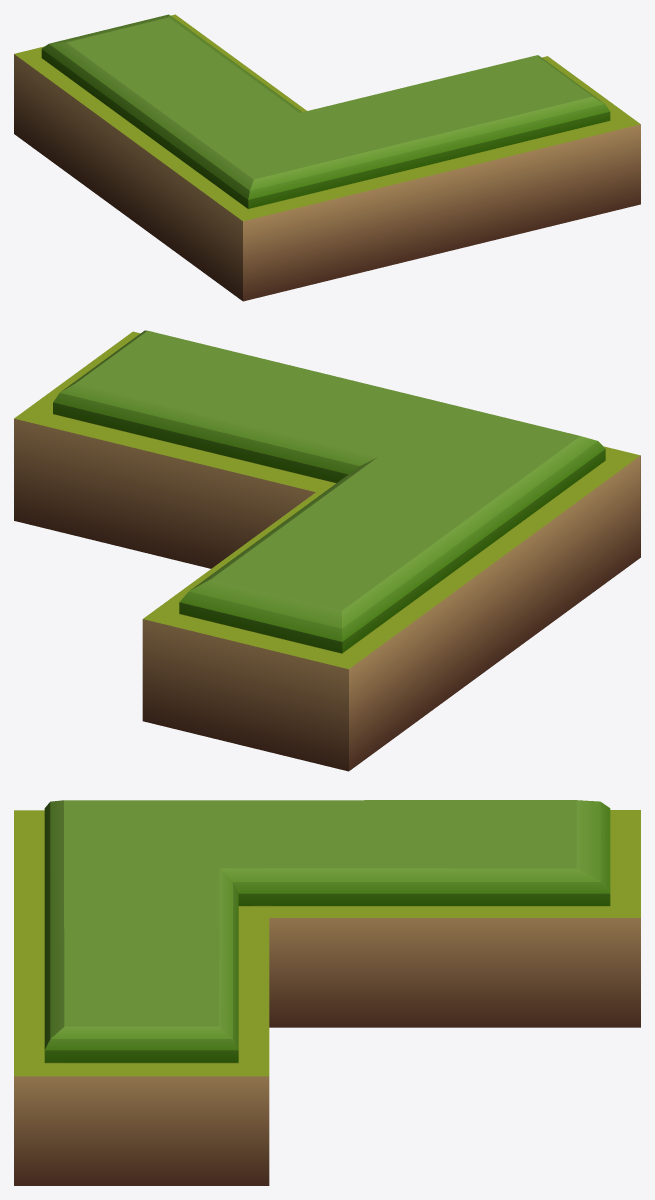
File: Sharp_Edge_Grass.fbx
3 renders of one model, top to bottom at view 1: azimuth 30°, elevation 25°; view 2: azimuth 150°, elevation 25°; view 3: azimuth 270°, elevation 25°, orthographic. The views are drawn at different scales.
Parts seen in each view (by area): view 1: Sharp_Edge_Grass; view 2: Sharp_Edge_Grass; view 3: Sharp_Edge_Grass.
Boxes of the visible parts, x1,y1,x2,y2 form: Sharp_Edge_Grass: (14, 14, 640, 301); Sharp_Edge_Grass: (14, 330, 640, 771); Sharp_Edge_Grass: (14, 800, 640, 1185).
Size of the model in its own units: 199 by 48.52 by 198.
